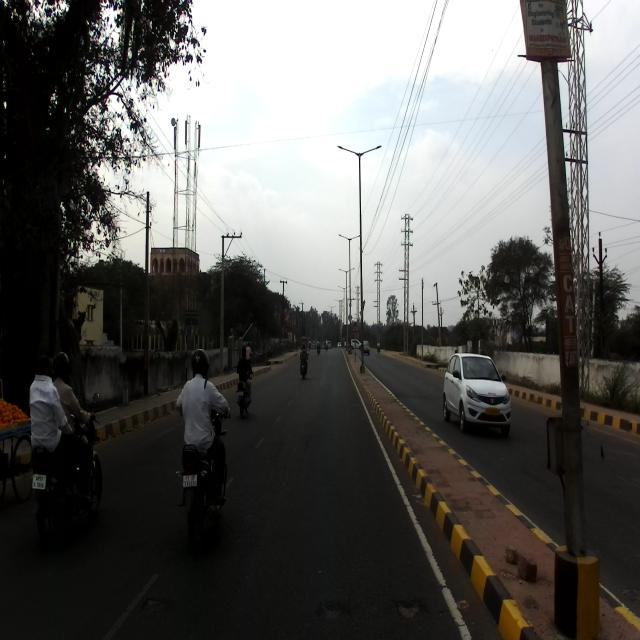motorcycle ahead at: (20, 428, 109, 538), (171, 437, 227, 536)
